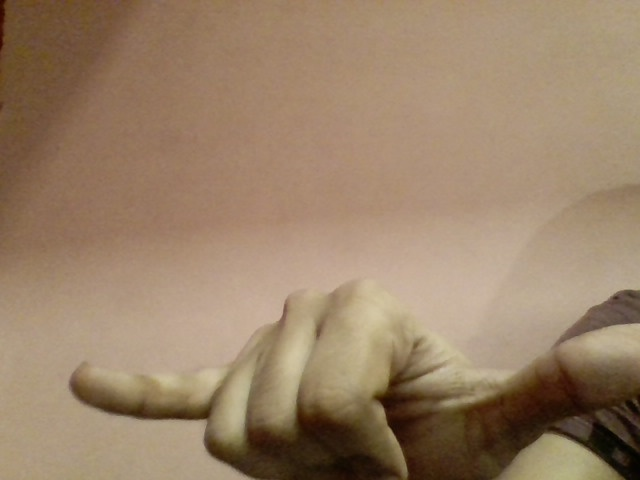y: (57, 268, 640, 479)
